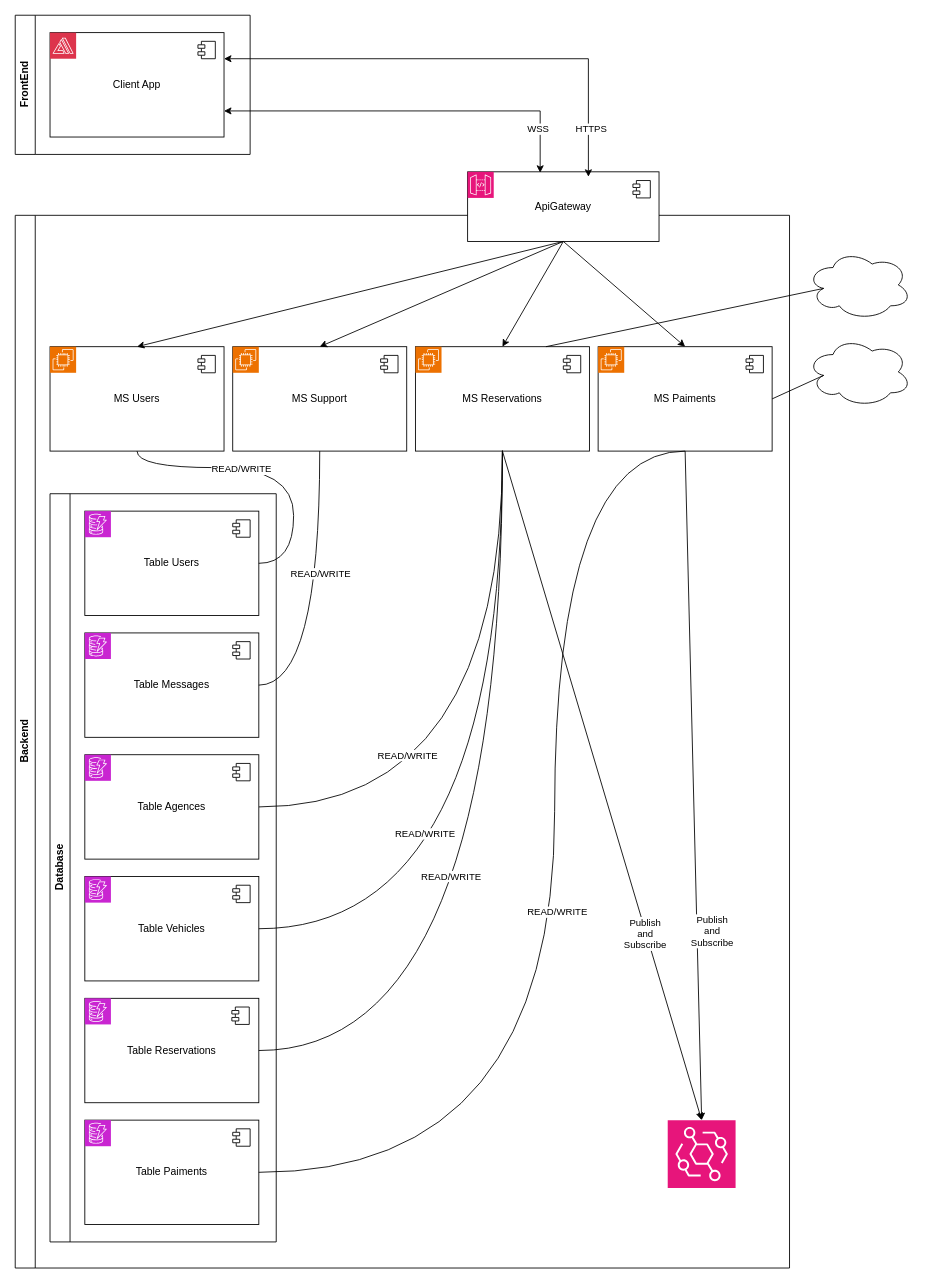
The diagram is 927 pixels wide and 1283 high, and some of its shapes have lost their labels. Here are the shapes that lost their labels. From the top down, the centre of each, then its label:
At point 858,284: "Open Street Map API".
At point 858,371: "Stripe API".
At point 701,1153: "EventBridge (Pub/Sub)".
